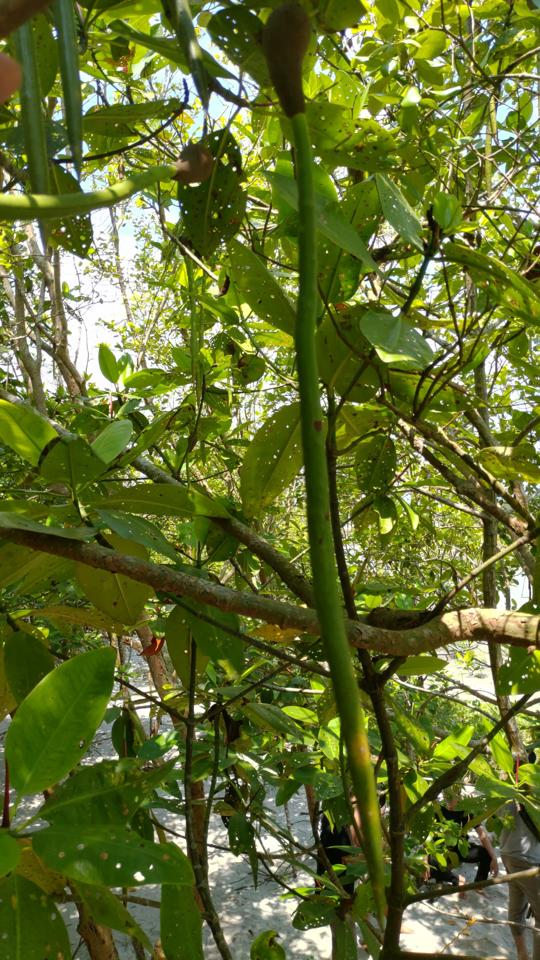mentah: (237, 1, 400, 944)
